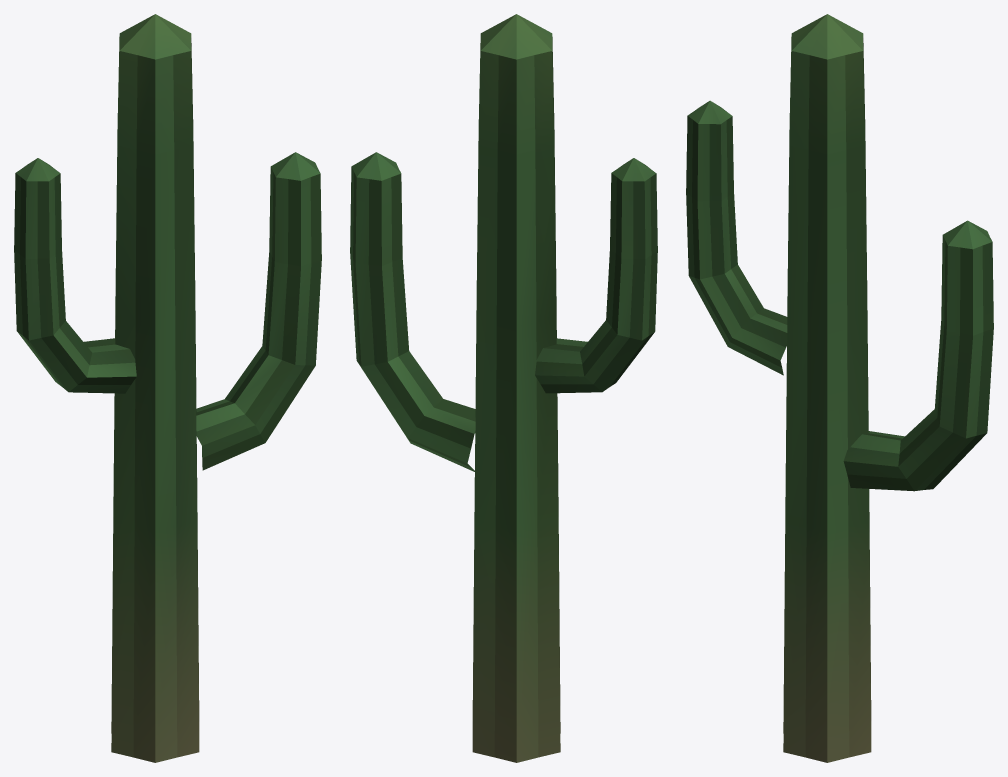
File: cactus_a.glb
The picture shows the model from 3 angles, left to right: view 1: azimuth 30°, elevation 25°; view 2: azimuth 150°, elevation 25°; view 3: azimuth 330°, elevation 25°; orthographic projection.
Visible parts, largest first — view 1: CactusA; view 2: CactusA; view 3: CactusA.
Boxes of the visible parts, x1,y1,x2,y2 form: CactusA: (14,14,321,762); CactusA: (350,14,657,762); CactusA: (686,14,993,762).
Bounding box in the file's own units: 1.84 × 4.27 × 0.4677.
